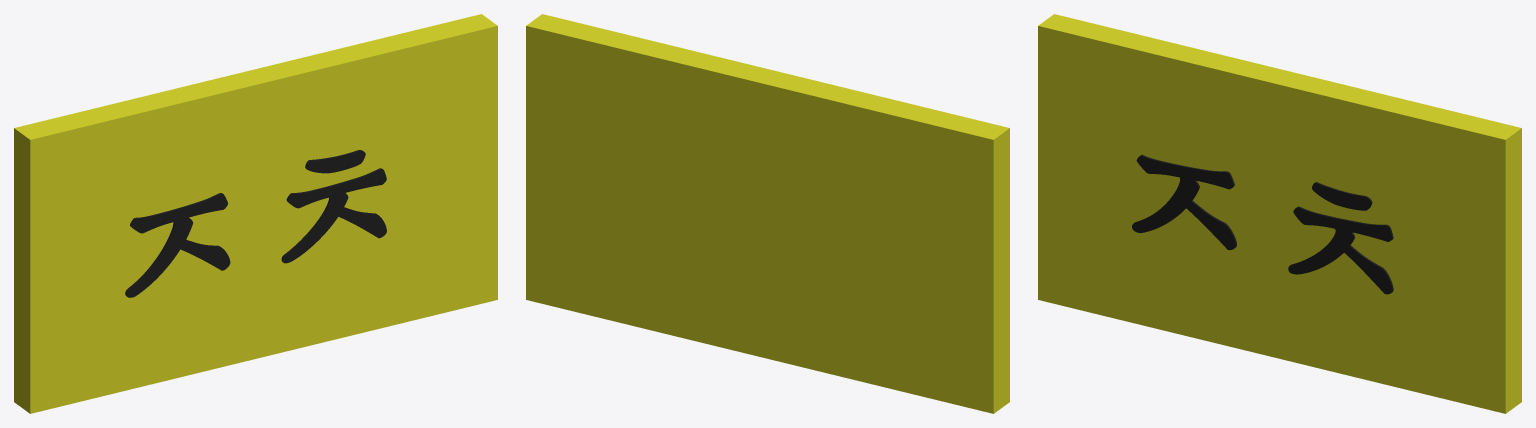
3 renders of one model, left to right at view 1: azimuth 30°, elevation 25°; view 2: azimuth 150°, elevation 25°; view 3: azimuth 330°, elevation 25°, orthographic.
Visible parts, largest first — view 1: Cube.010; view 2: Cube.010; view 3: Cube.010.
Boxes of the visible parts, x1=… form: Cube.010: x1=14, y1=14, x2=497, y2=413; Cube.010: x1=526, y1=14, x2=1009, y2=413; Cube.010: x1=1038, y1=14, x2=1521, y2=413.
Size of the model in its own units: 10 by 5.6 by 0.64.
